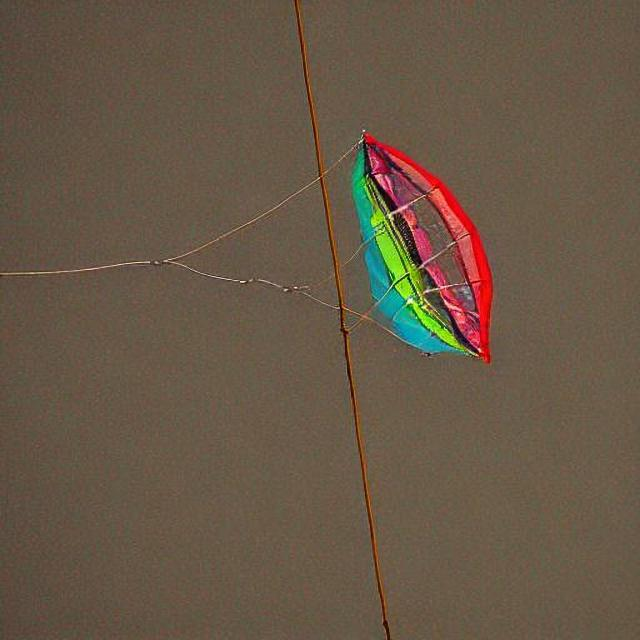floating object: (352, 132, 496, 356)
